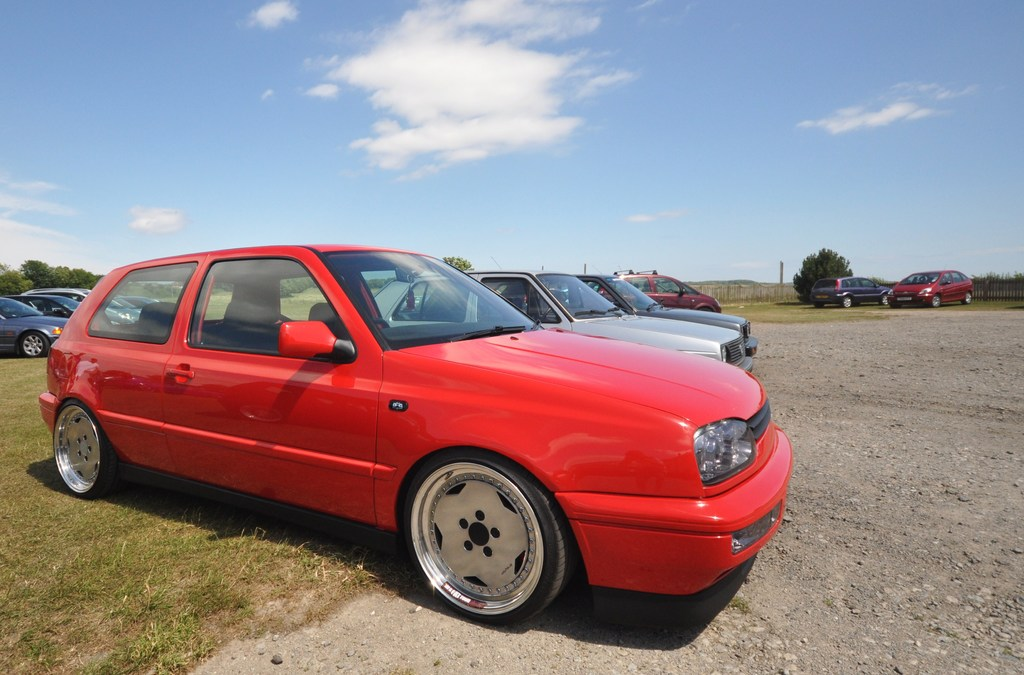Car: (0, 260, 792, 626), (364, 263, 750, 376), (571, 267, 755, 352), (618, 264, 726, 316), (0, 293, 72, 356), (888, 268, 976, 308), (67, 283, 142, 326), (813, 271, 889, 310), (28, 291, 90, 314), (104, 291, 161, 314)
